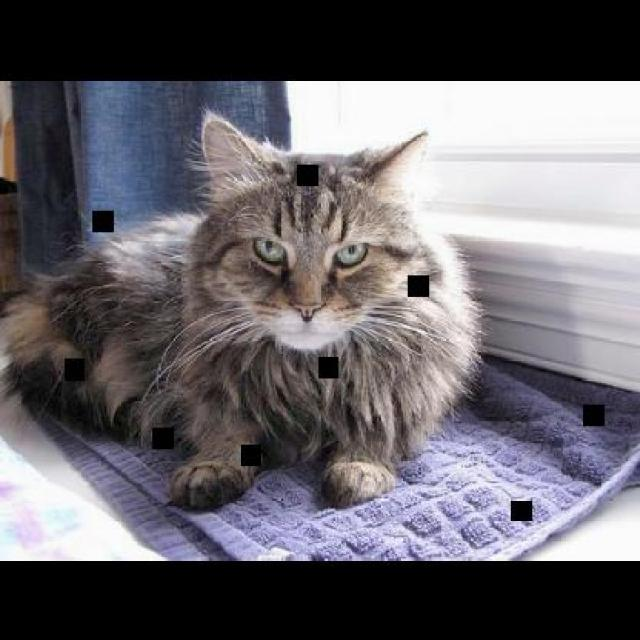unauthorized: (0, 108, 485, 510)
